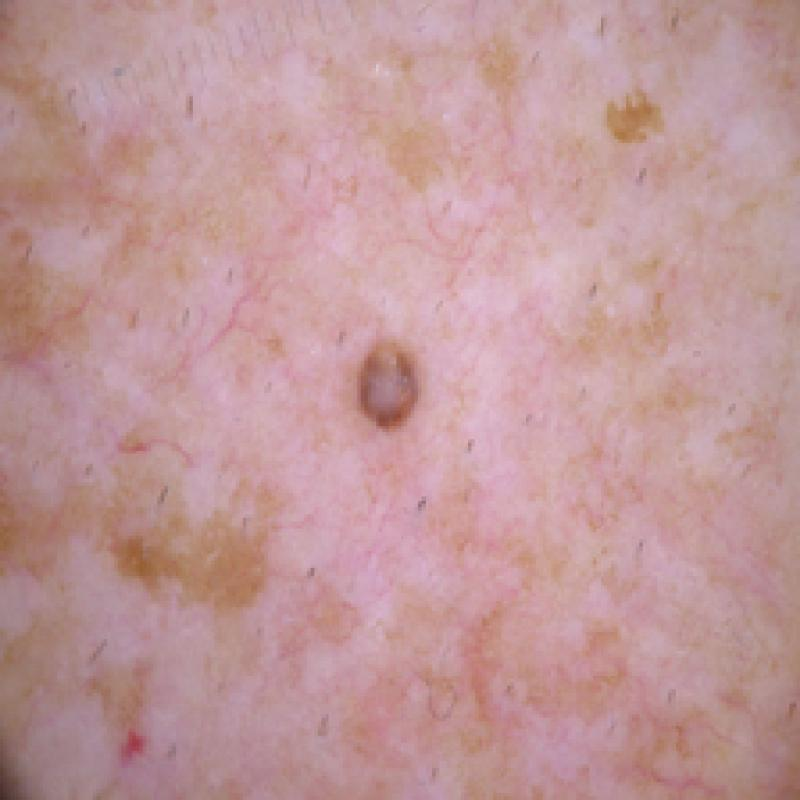benign: (73, 422, 298, 621), (574, 43, 708, 194), (325, 318, 450, 450)
